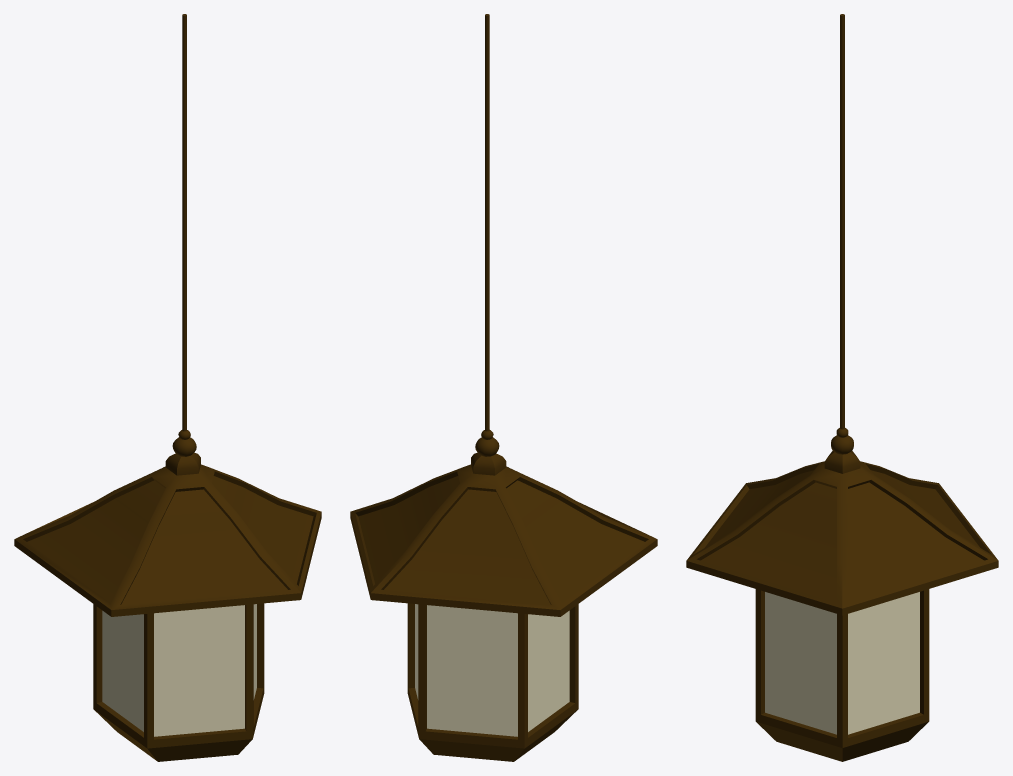
The model's file is j_lantern.fbx.
The picture shows the model from 3 angles, left to right: view 1: azimuth 30°, elevation 25°; view 2: azimuth 150°, elevation 25°; view 3: azimuth 270°, elevation 25°; orthographic projection.
Parts seen in each view (by area): view 1: pSphere3; view 2: pSphere3; view 3: pSphere3.
Boxes of the visible parts, box(x1,y1,x2,y2) form: pSphere3: box(14, 14, 321, 761); pSphere3: box(350, 14, 657, 761); pSphere3: box(686, 14, 998, 761).
Bounding box in the file's own units: 3.25 × 8.66 × 3.42.
